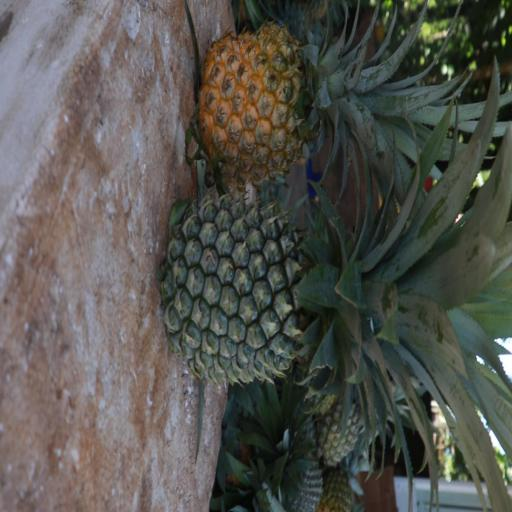Pineapple - v8 v1: (200, 27, 418, 171)
